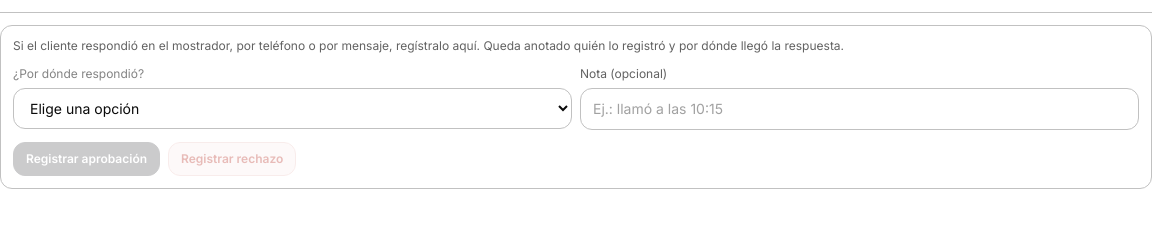
Test: when the server refuses, nothing prints and the reason is shown
Select "WhatsApp" in the dropdown labelled "¿Por dónde respondió?" at (292, 108), box [13,88,572,129]
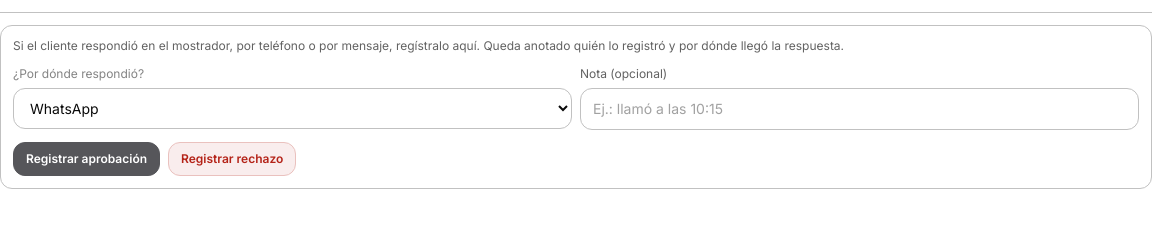
Click the button "Registrar aprobación".
click(86, 159)  # box [13,142,160,176]
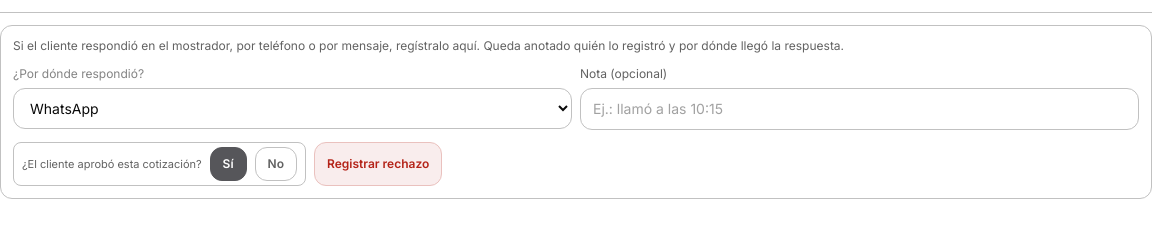
Click the button "Sí".
click(228, 164)  # box [210,147,247,181]
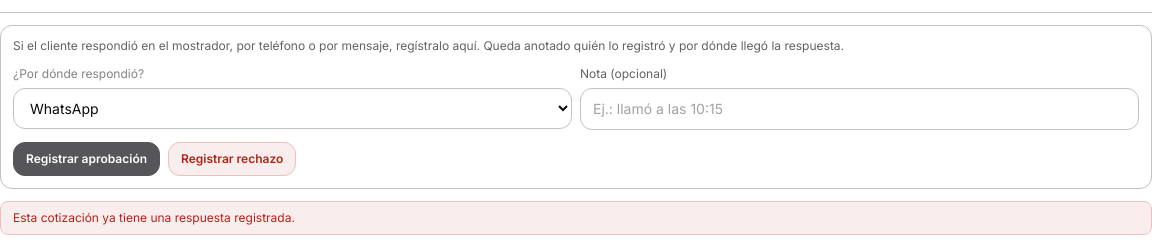
Now the text "Esta cotización ya tiene una respuesta registrada." is shown, box [0,201,1151,235]
